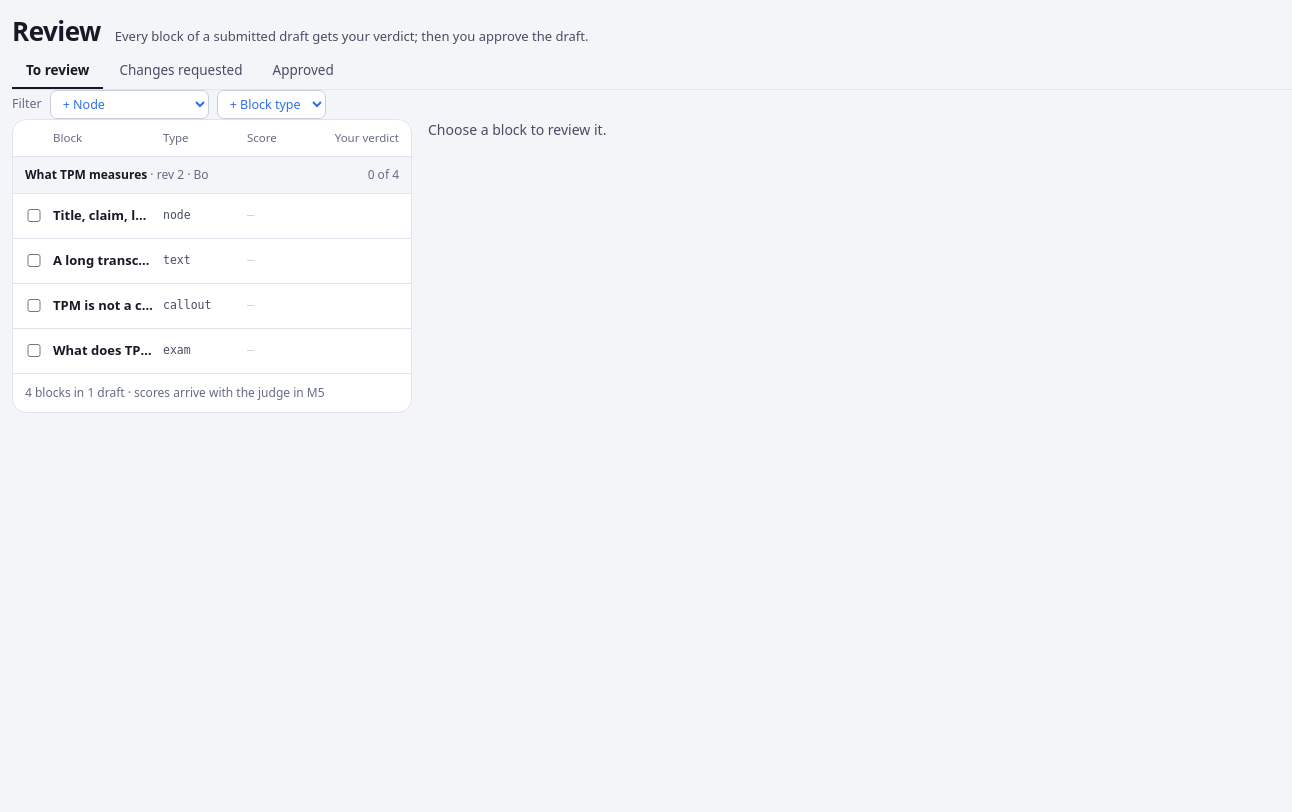
Scenario: ReviewPage — verdicts › asks nothing again after a decision (#294)
The image size is (1292, 812).
Click the button "Title, claim, level, links": (103,216) x1=53 y1=194 x2=153 y2=238
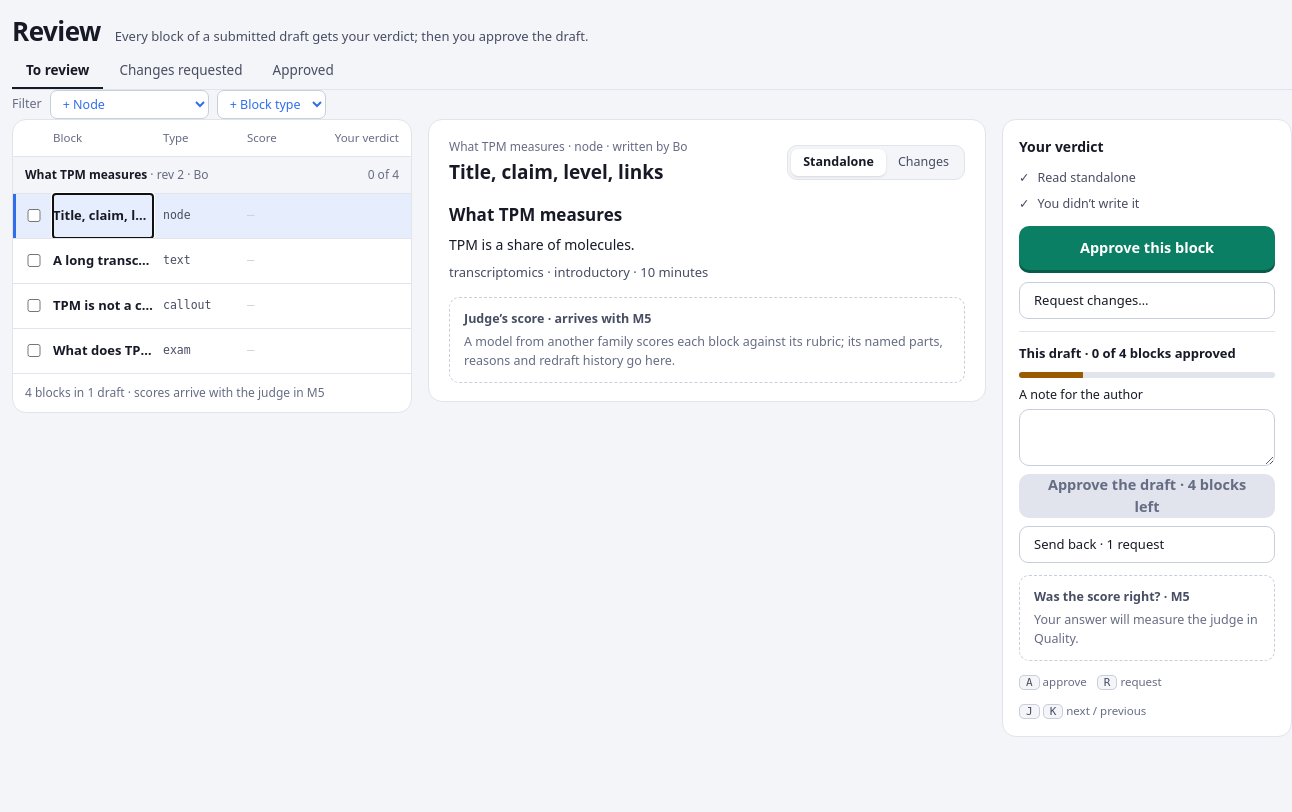
Click the button "Send back · 1 request": (1147,544) x1=1019 y1=526 x2=1275 y2=563
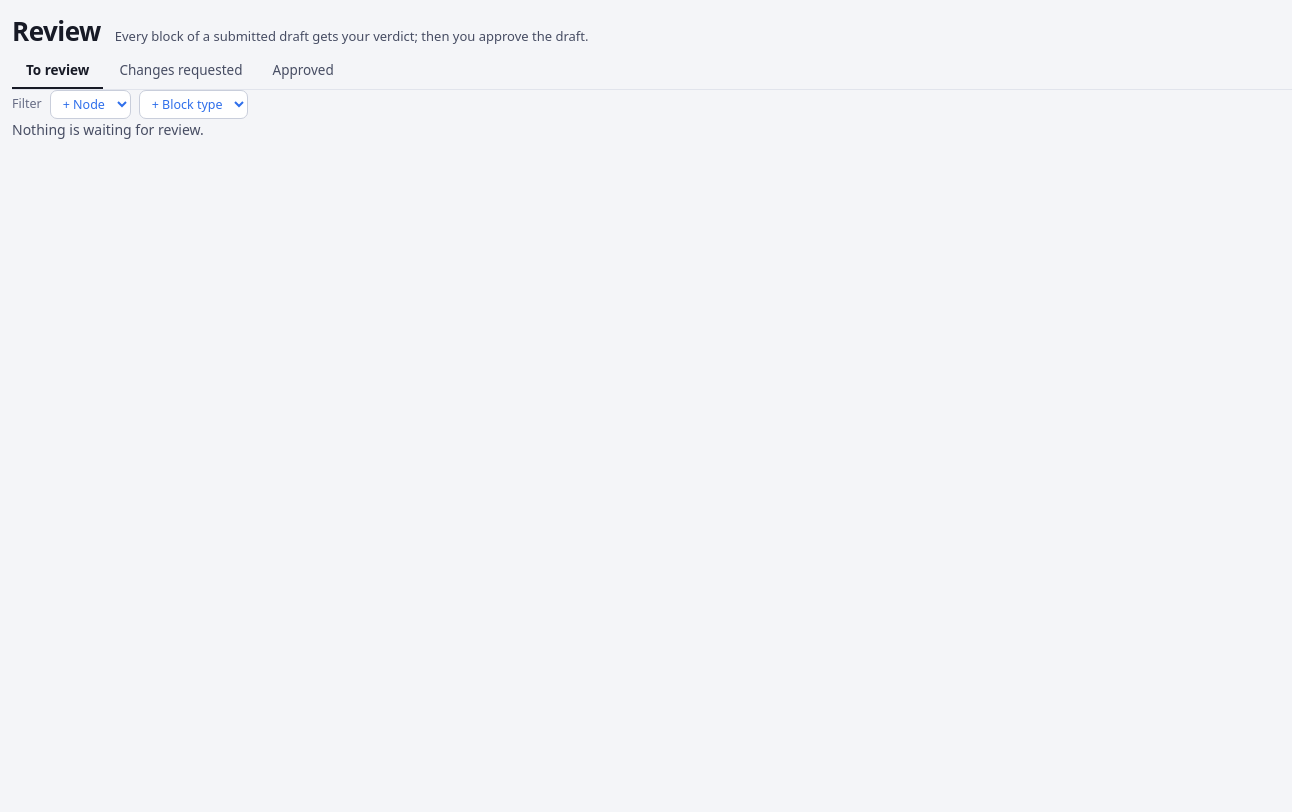
Expected: the text "Nothing is waiting for review." is shown, x1=12 y1=120 x2=204 y2=139
